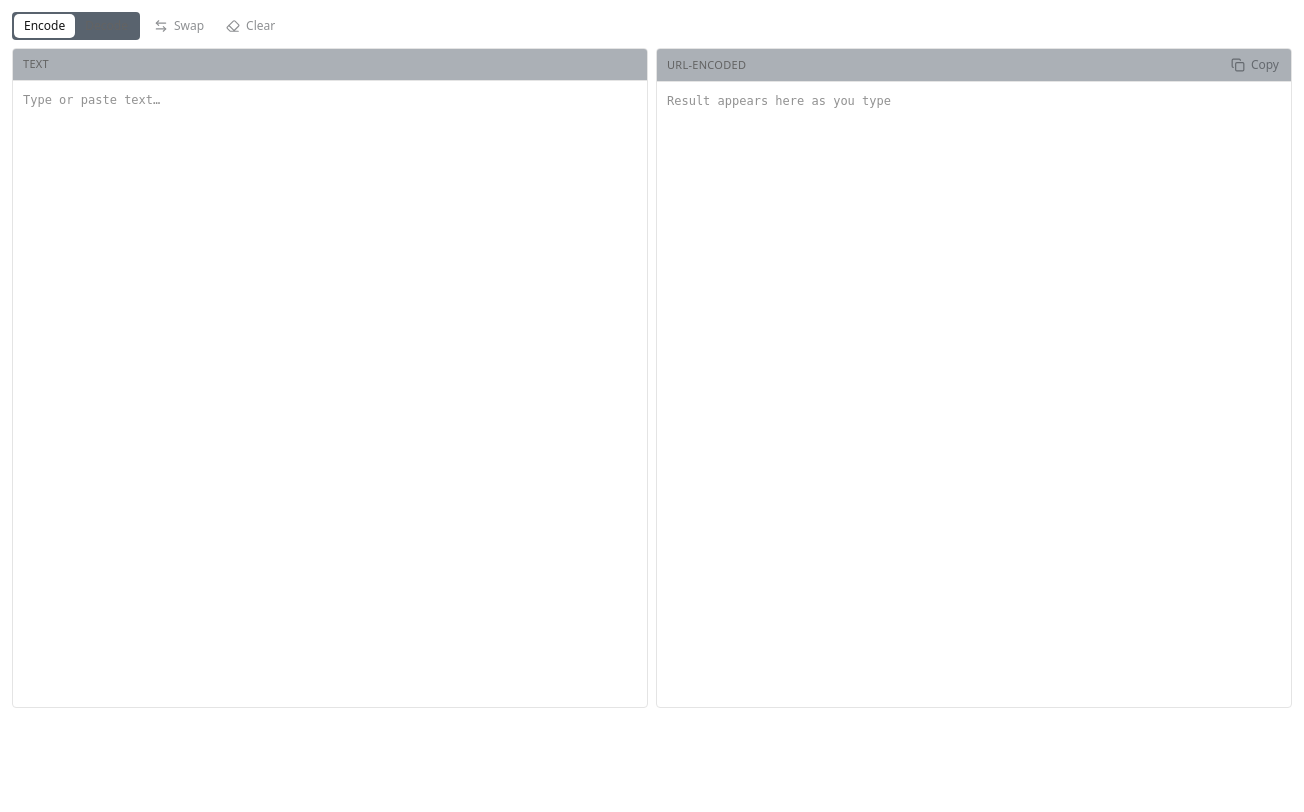
Test case: URL › encodes text live
Step 1. Type "a b&c" into the text box named "Text to encode" → (330, 394), box [13, 81, 647, 707]
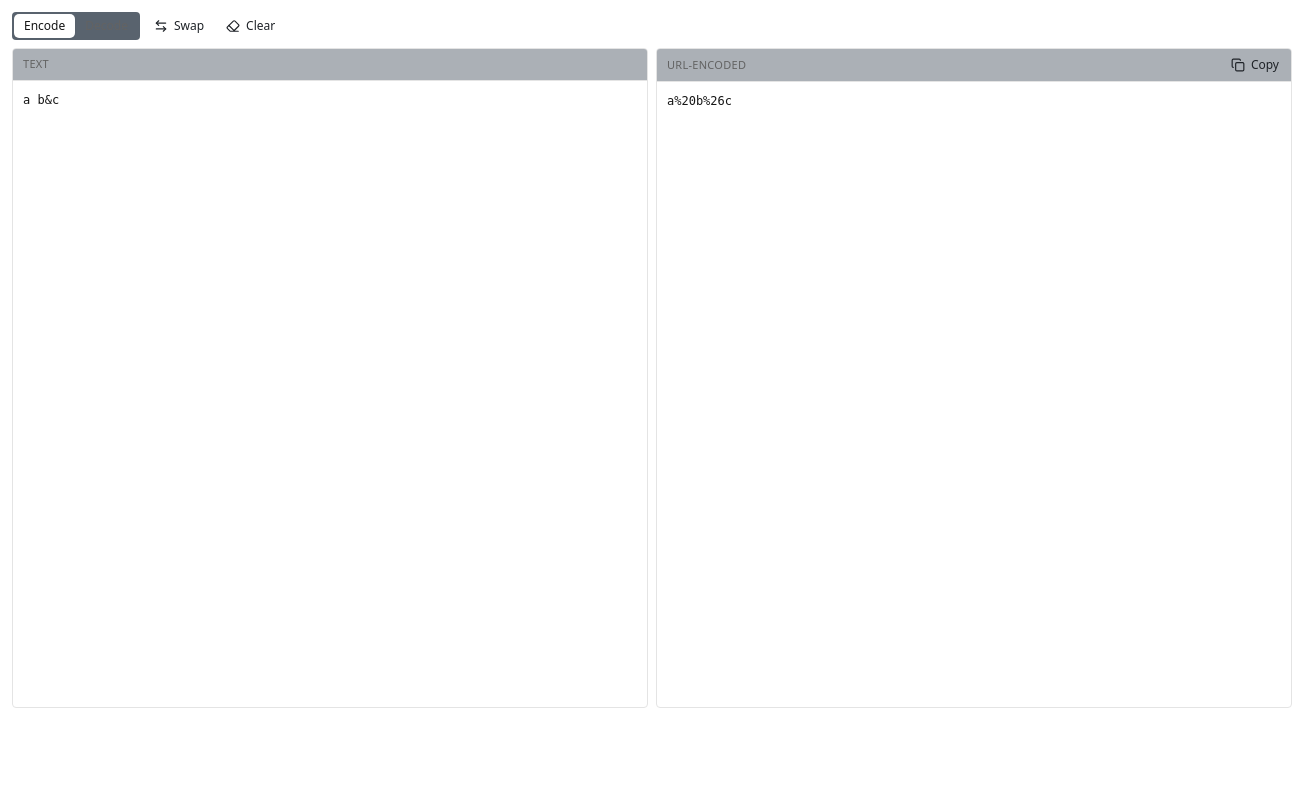
Result: the text box named "Result" holds "a%20b%26c" at [657, 82, 1291, 707]
